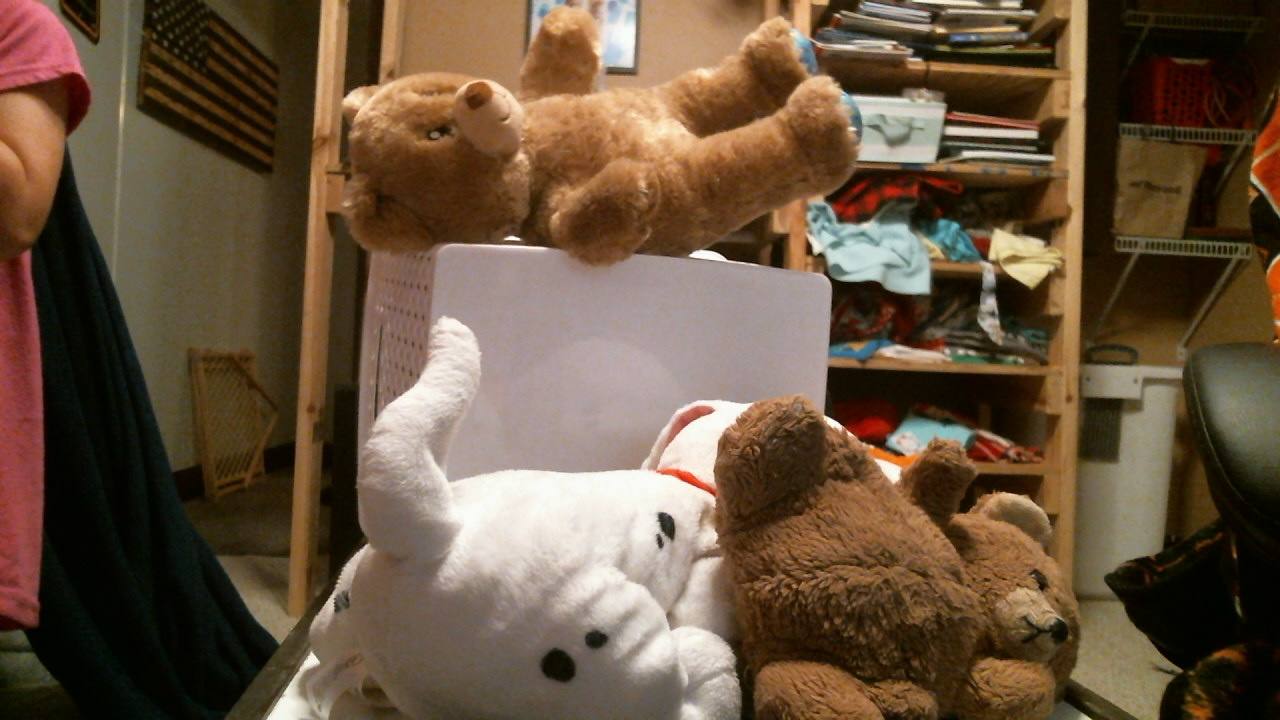Little_Mister_Bear: (983, 559, 1079, 670)
